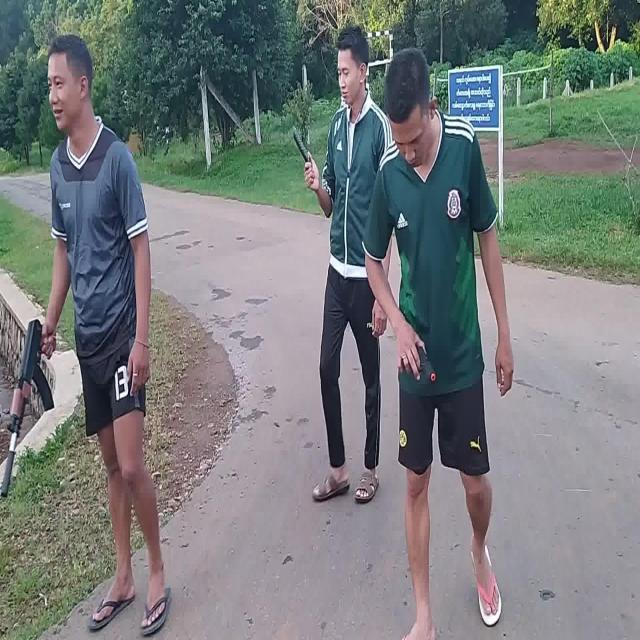gun: (2, 321, 54, 496), (403, 347, 435, 381)
